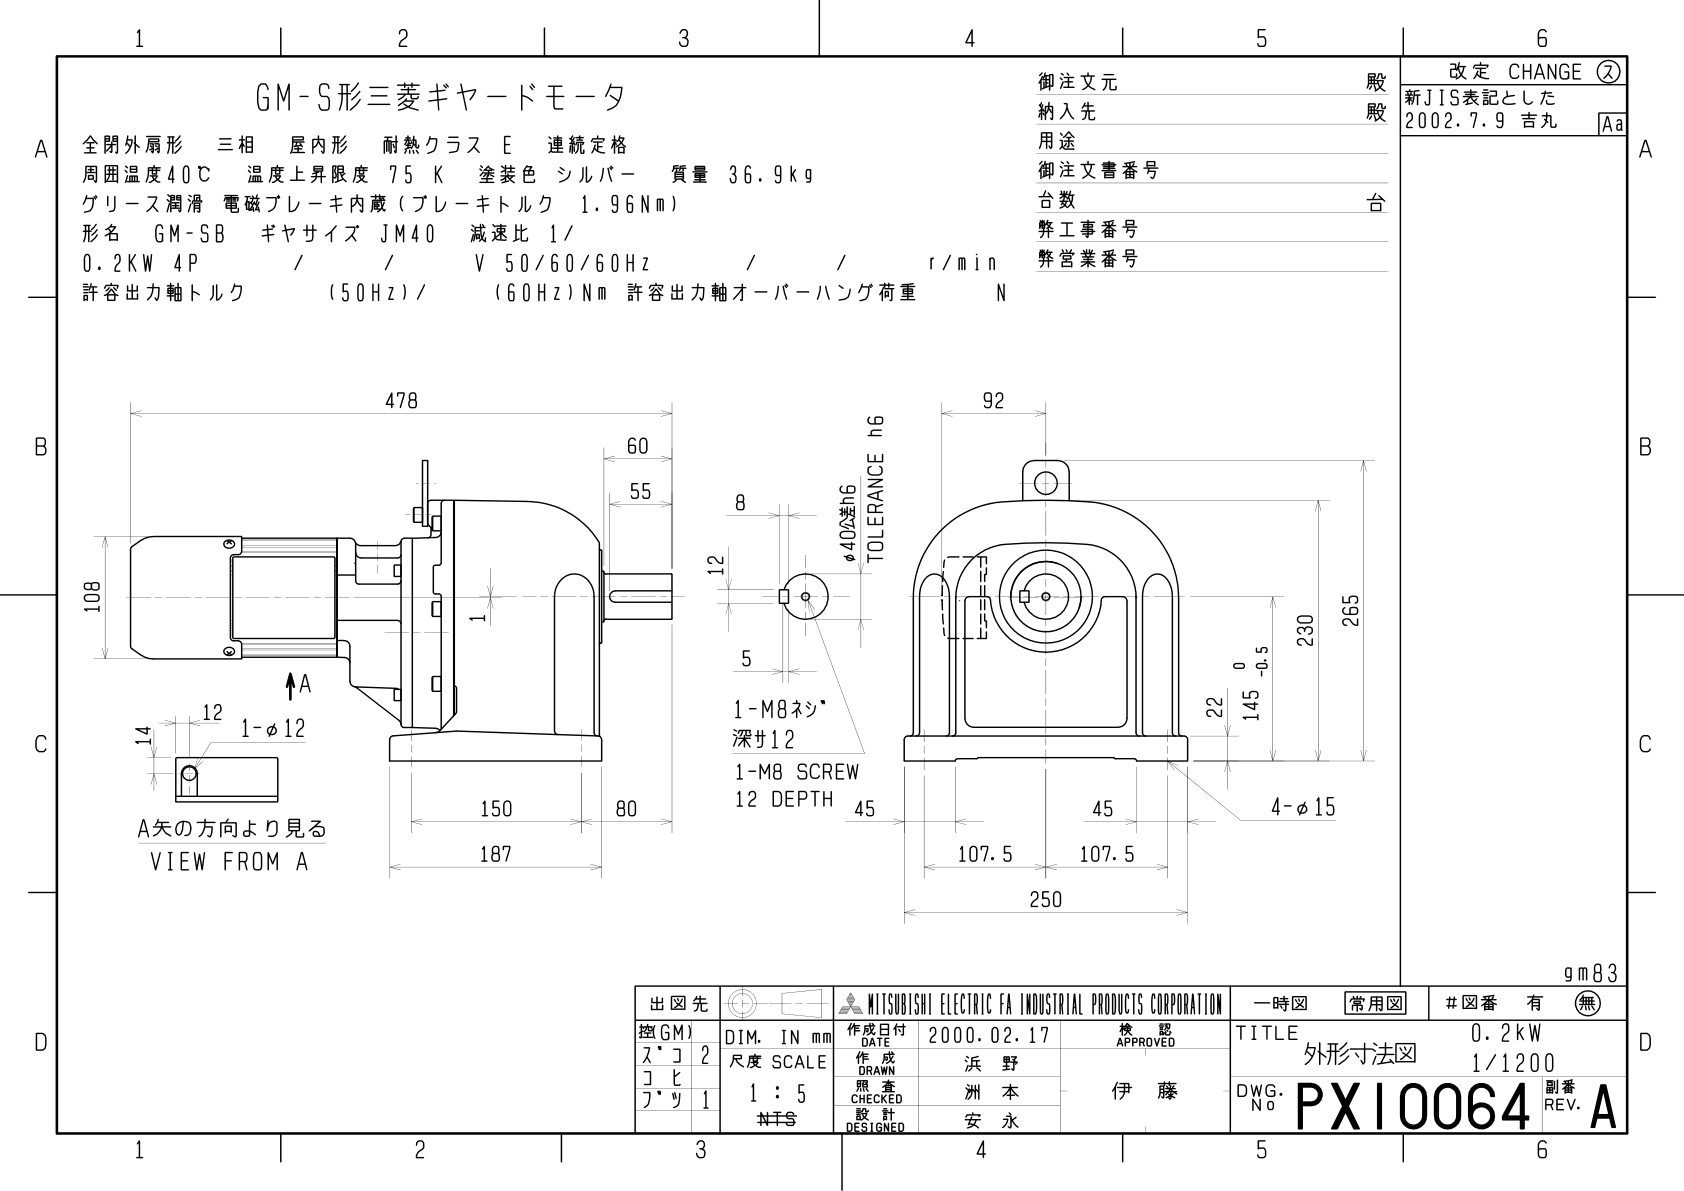GM_S_屋内＿三相_脚: (75, 349, 1383, 951)
